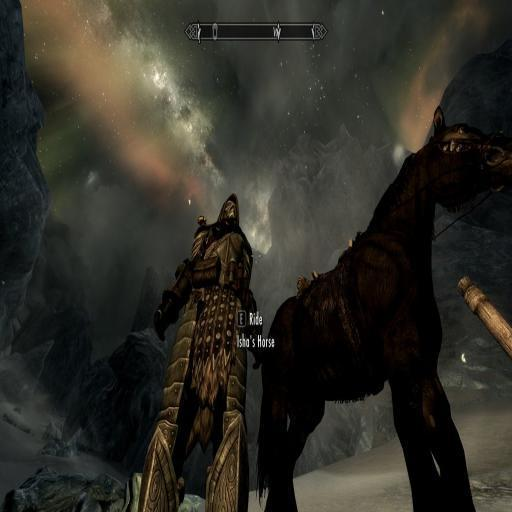horse: (252, 106, 512, 510)
